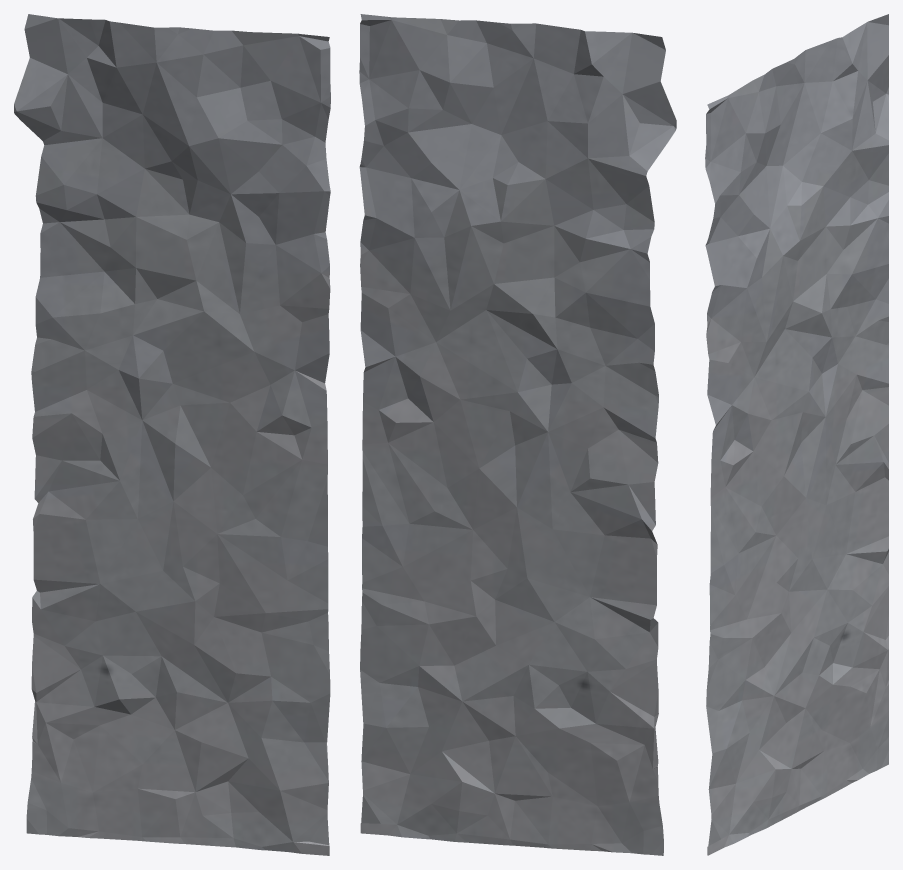
The picture shows the model from 3 angles, left to right: view 1: azimuth 30°, elevation 25°; view 2: azimuth 210°, elevation 25°; view 3: azimuth 270°, elevation 25°; orthographic projection. The views are drawn at different scales.
Size of the model in its own units: 0.232 by 0.8374 by 0.1856.
Materials: 1 (1 with a texture image).
